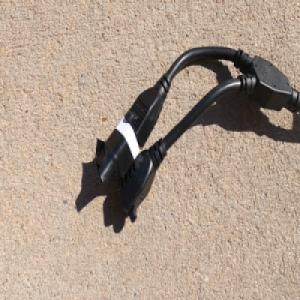Wire: (94, 44, 300, 223)
